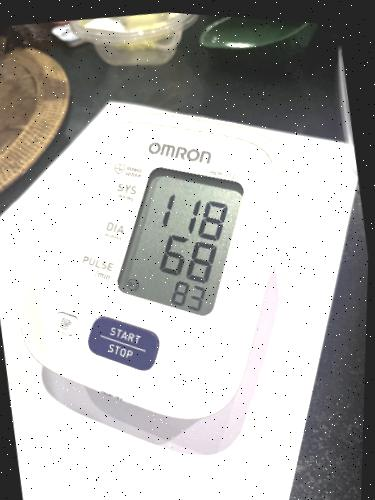bpm: (108, 154, 254, 322)
